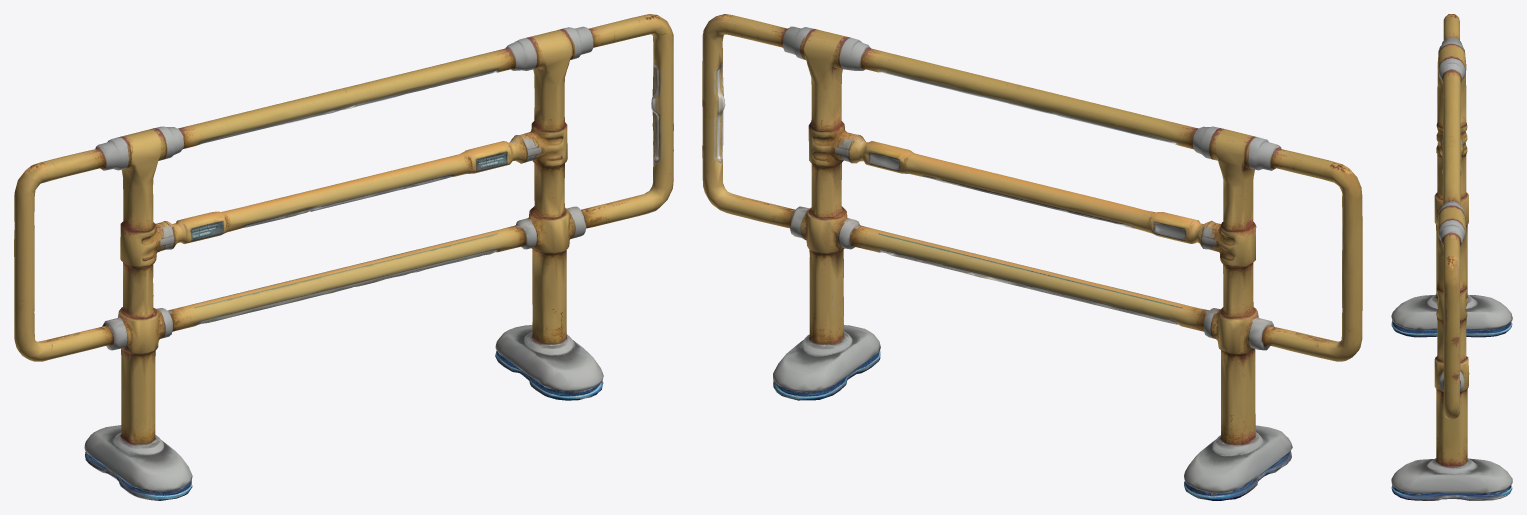
The picture shows the model from 3 angles, left to right: view 1: azimuth 30°, elevation 25°; view 2: azimuth 150°, elevation 25°; view 3: azimuth 270°, elevation 25°; orthographic projection. The views are drawn at different scales.
Parts seen in each view (by area): view 1: Meshy_Mesh1.0; view 2: Meshy_Mesh1.0; view 3: Meshy_Mesh1.0.
Boxes of the visible parts, x1,y1,x2,y2 form: Meshy_Mesh1.0: (14,14,673,500); Meshy_Mesh1.0: (702,14,1362,500); Meshy_Mesh1.0: (1391,14,1512,500).
Size of the model in its own units: 5.07 by 2.5 by 0.9964.
1 material, 1 textured.
